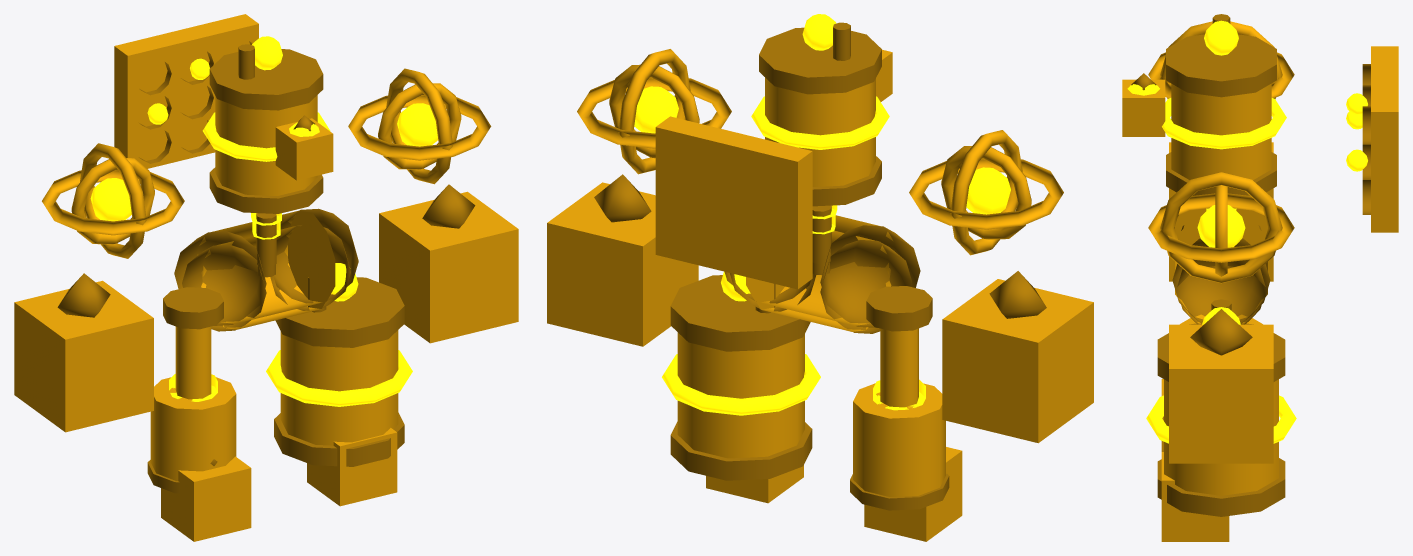
Rendered from golem_103.glb.
3 renders of one model, left to right at view 1: azimuth 30°, elevation 25°; view 2: azimuth 150°, elevation 25°; view 3: azimuth 270°, elevation 25°, orthographic. The views are drawn at different scales.
Parts seen in each view (by area): view 1: Body, Detail, Glow; view 2: Body, Detail, Glow; view 3: Body, Detail, Glow.
Boxes of the visible parts, box(x1,y1,x2,y2) form: Body: box(14, 14, 518, 541); Detail: box(57, 41, 475, 493); Glow: box(90, 36, 438, 406); Body: box(547, 49, 1093, 541); Detail: box(594, 22, 1046, 510); Glow: box(634, 14, 1010, 415); Body: box(1122, 21, 1398, 541); Detail: box(1131, 14, 1370, 516); Glow: box(1127, 20, 1367, 443).
Size of the model in its own units: 1.16 by 1.12 by 0.5962.
